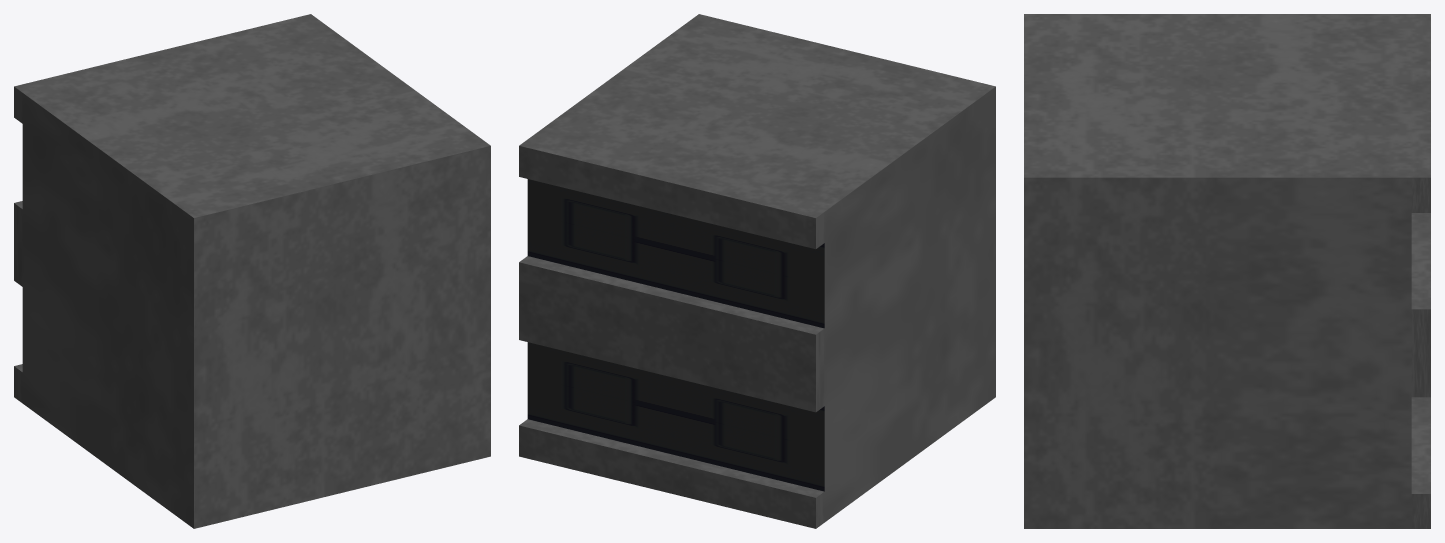
File: tiles_corner_roof_1.glb
The picture shows the model from 3 angles, left to right: view 1: azimuth 30°, elevation 25°; view 2: azimuth 150°, elevation 25°; view 3: azimuth 270°, elevation 25°; orthographic projection. The views are drawn at different scales.
Parts seen in each view (by area): view 1: RoofCorner.007; view 2: RoofCorner.007; view 3: RoofCorner.007.
Boxes of the visible parts, x1,y1,x2,y2 form: RoofCorner.007: [14, 14, 490, 528]; RoofCorner.007: [519, 14, 995, 528]; RoofCorner.007: [1024, 14, 1430, 528].
Size of the model in its own units: 2 by 2 by 2.1.
Materials: 2 (2 with a texture image).
